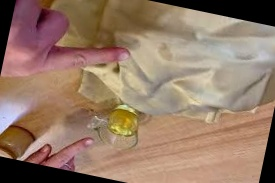oil: (151, 38, 185, 65)
